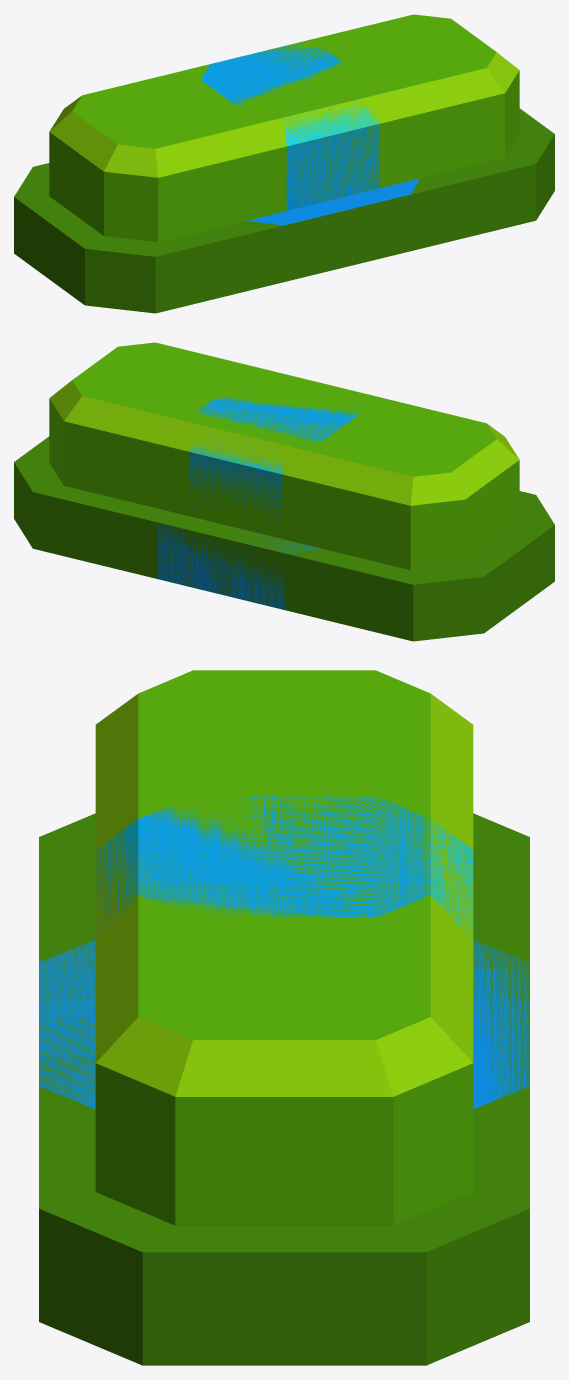
Rendered from MenuButtons.fbx.
The picture shows the model from 3 angles, top to bottom: view 1: azimuth 30°, elevation 25°; view 2: azimuth 150°, elevation 25°; view 3: azimuth 270°, elevation 25°; orthographic projection. The views are drawn at different scales.
Visible parts, largest first — view 1: Cube.002, Cube.004, Cube.003, Cube.005; view 2: Cube.002, Cube.004, Cube.003, Cube.005; view 3: Cube.002, Cube.004, Cube.003, Cube.005.
Boxes of the visible parts, x1=… form: Cube.002: x1=49, y1=14, x2=519, y2=242; Cube.004: x1=14, y1=108, x2=554, y2=313; Cube.003: x1=200, y1=45, x2=379, y2=210; Cube.005: x1=246, y1=178, x2=419, y2=225; Cube.002: x1=49, y1=342, x2=519, y2=570; Cube.004: x1=14, y1=436, x2=554, y2=641; Cube.003: x1=189, y1=373, x2=360, y2=532; Cube.005: x1=158, y1=521, x2=321, y2=609; Cube.002: x1=95, y1=670, x2=473, y2=1225; Cube.004: x1=39, y1=813, x2=529, y2=1365; Cube.003: x1=95, y1=795, x2=473, y2=938; Cube.005: x1=39, y1=939, x2=529, y2=1108.
Bounding box in the file's own units: 2.26 × 0.6457 × 1.02.
